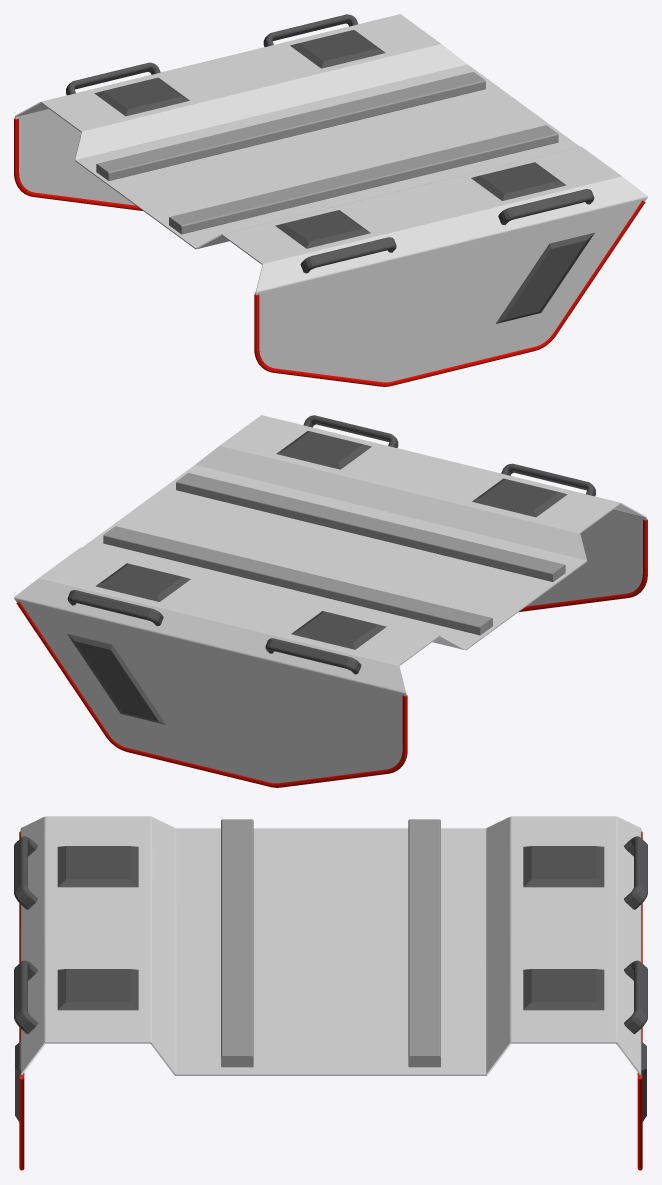
File: Bunker_Cover.dae
3 views of the same model, one above another, from view 1: azimuth 30°, elevation 25°; view 2: azimuth 150°, elevation 25°; view 3: azimuth 270°, elevation 25° (orthographic). The views are drawn at different scales.
Visible parts, largest first — view 1: Cover, Rails, Vents, Handles, Trim; view 2: Cover, Rails, Vents, Handles, Trim; view 3: Cover, Rails, Vents, Handles, Trim.
Boxes of the visible parts, x1=… form: Cover: x1=15, y1=14, x2=647, y2=382; Rails: x1=96, y1=72, x2=558, y2=234; Vents: x1=94, y1=30, x2=594, y2=323; Handles: x1=66, y1=14, x2=594, y2=273; Trim: x1=14, y1=118, x2=645, y2=386; Cover: x1=14, y1=415, x2=646, y2=783; Rails: x1=103, y1=473, x2=565, y2=635; Vents: x1=67, y1=431, x2=567, y2=724; Handles: x1=67, y1=415, x2=595, y2=674; Trim: x1=16, y1=519, x2=647, y2=787; Cover: x1=20, y1=816, x2=641, y2=1078; Rails: x1=221, y1=819, x2=440, y2=1067; Vents: x1=15, y1=846, x2=646, y2=1121; Handles: x1=14, y1=836, x2=647, y2=1033; Trim: x1=19, y1=831, x2=642, y2=1170.
Size of the model in its own units: 0.7202 by 0.7808 by 0.2592.
